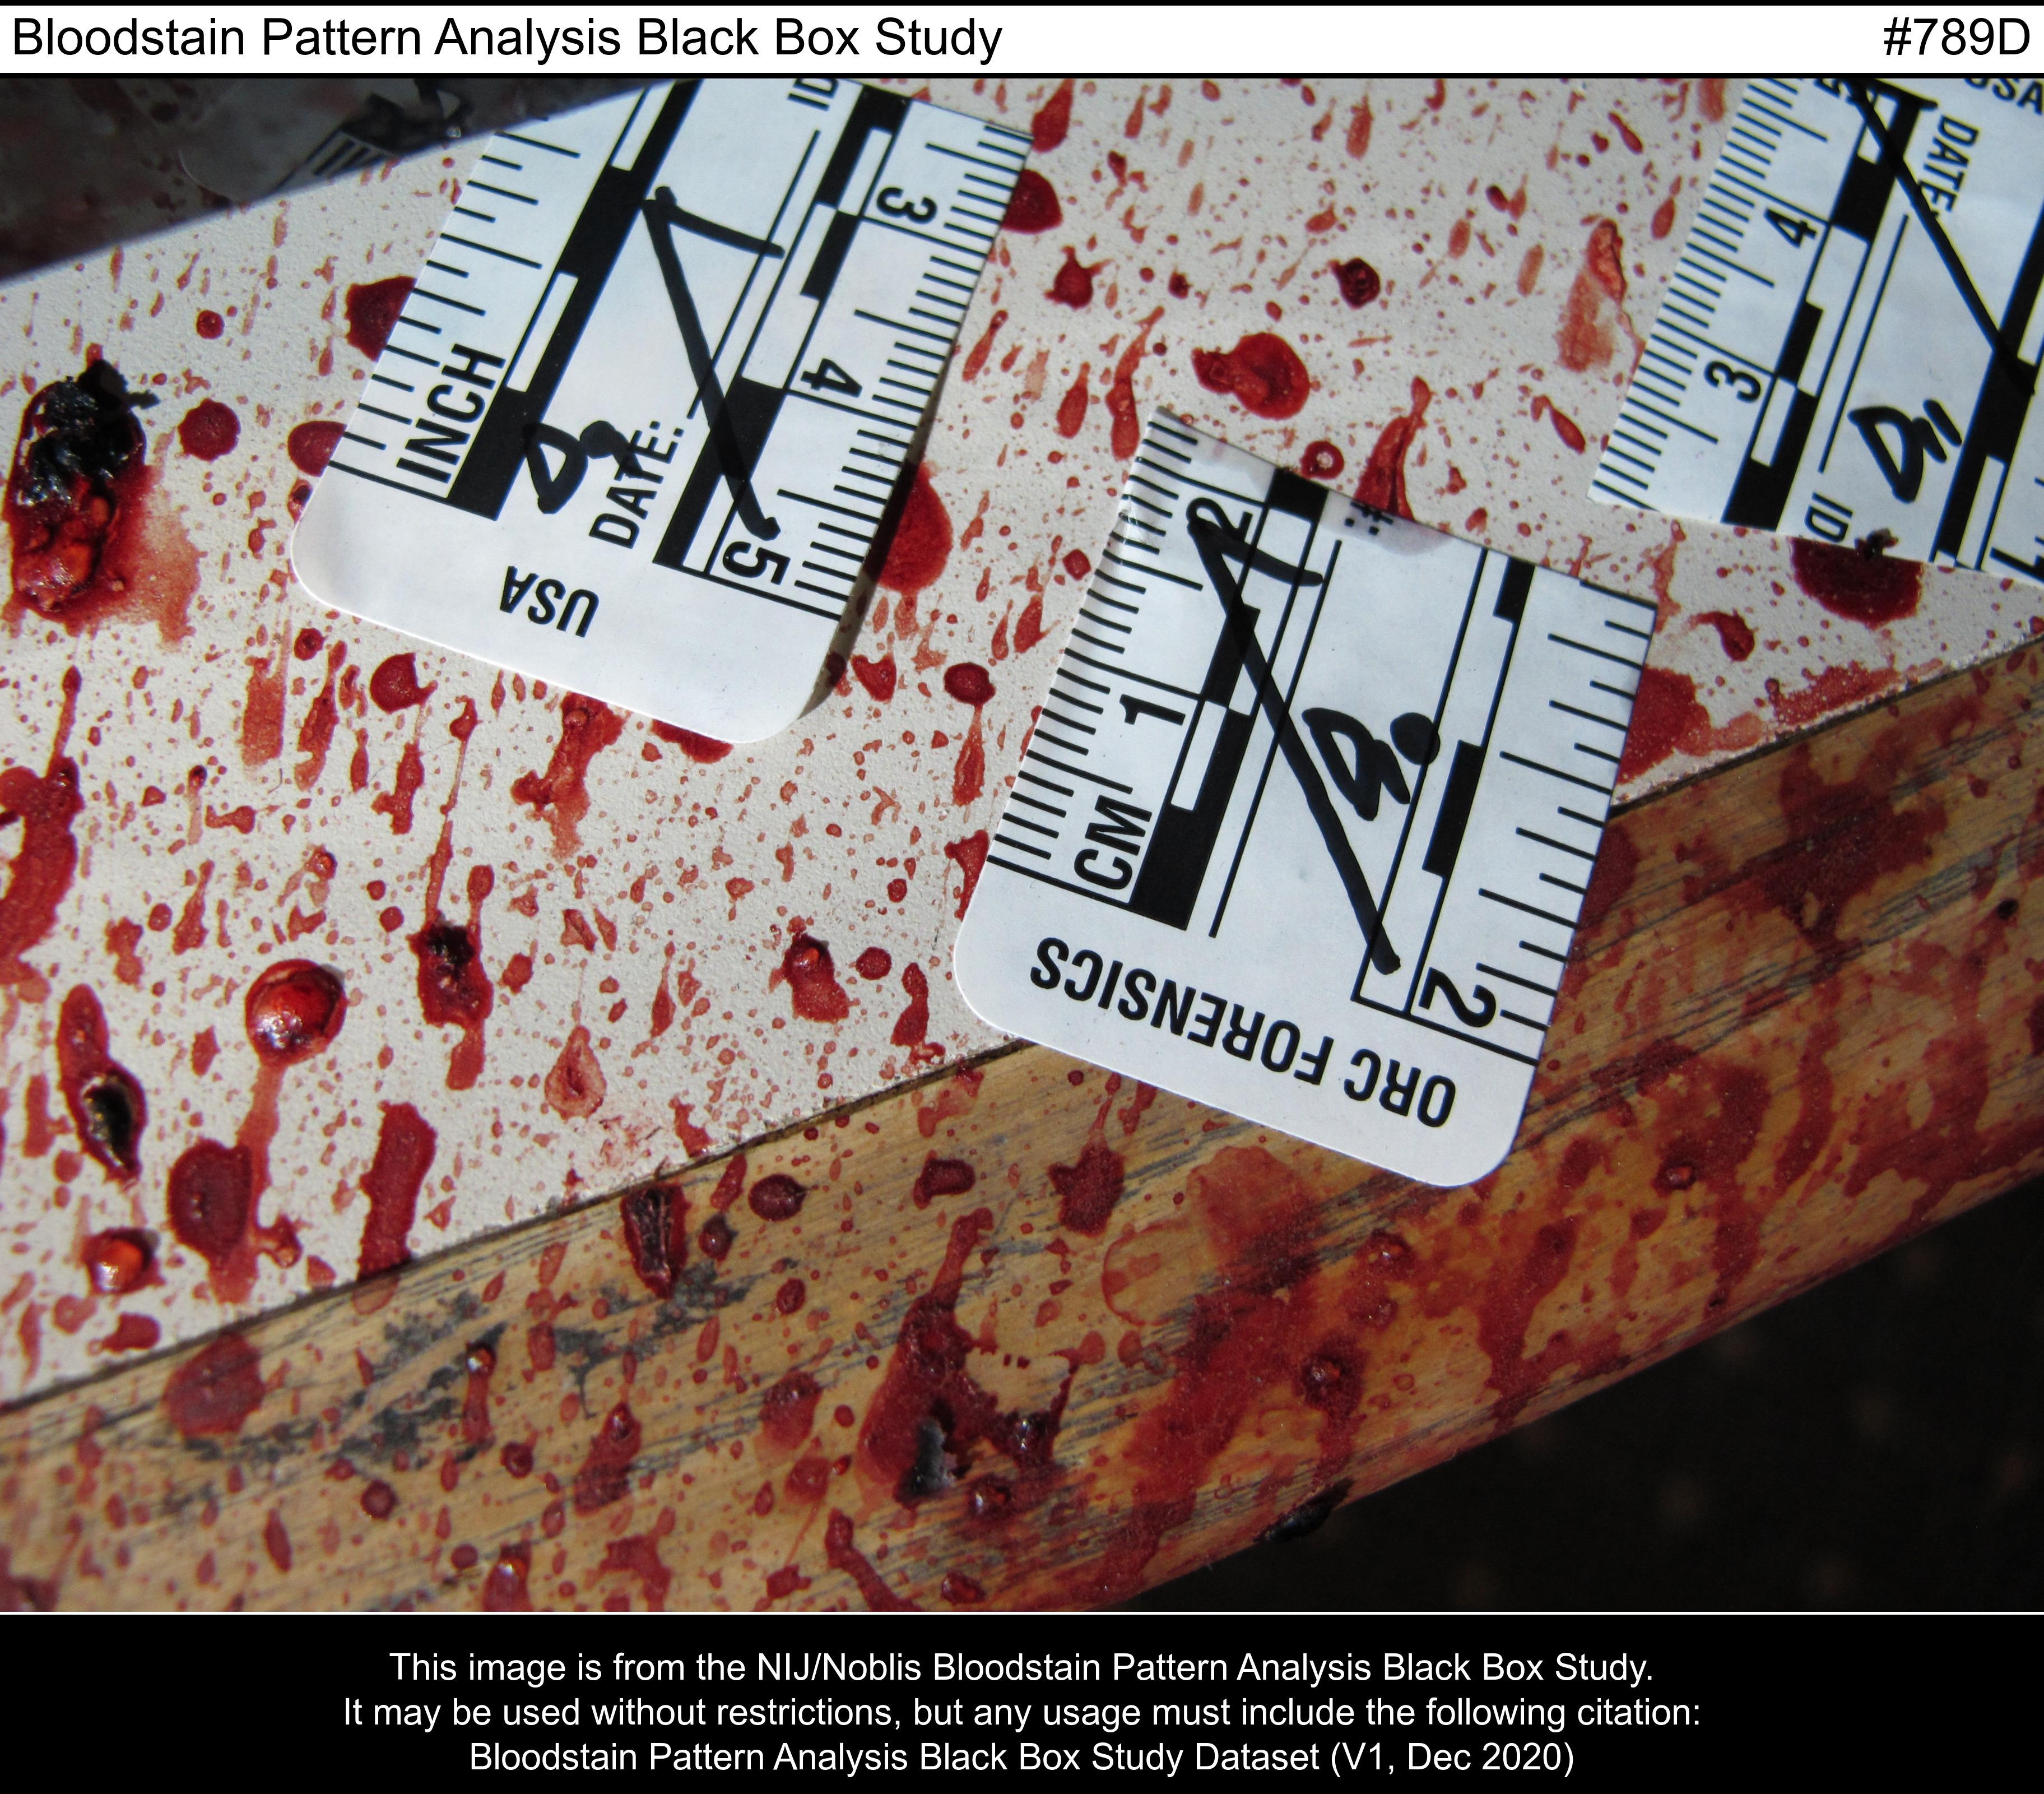Impact: (600, 1168, 1201, 1552)
